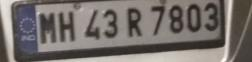0: (187, 3, 202, 34)
3: (100, 9, 120, 39), (204, 1, 222, 32)
4: (84, 9, 102, 41)
7: (148, 5, 167, 38)
8: (169, 4, 186, 33)
H: (56, 11, 78, 43)
M: (36, 12, 58, 45)
R: (125, 6, 145, 40)
